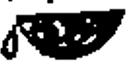Basket: (1, 6, 128, 64)
